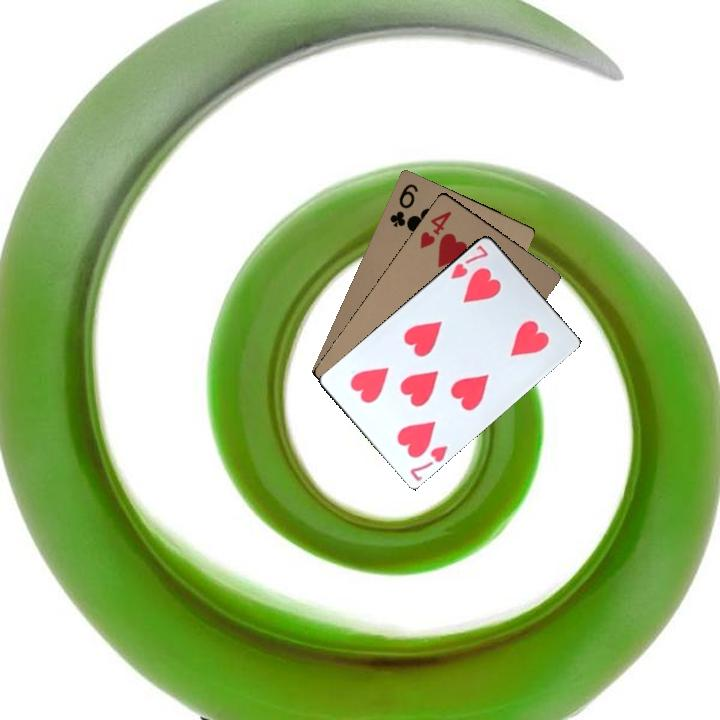4h: (416, 207, 454, 251)
6c: (386, 180, 421, 230)
7h: (406, 441, 450, 483), (447, 241, 490, 282)
